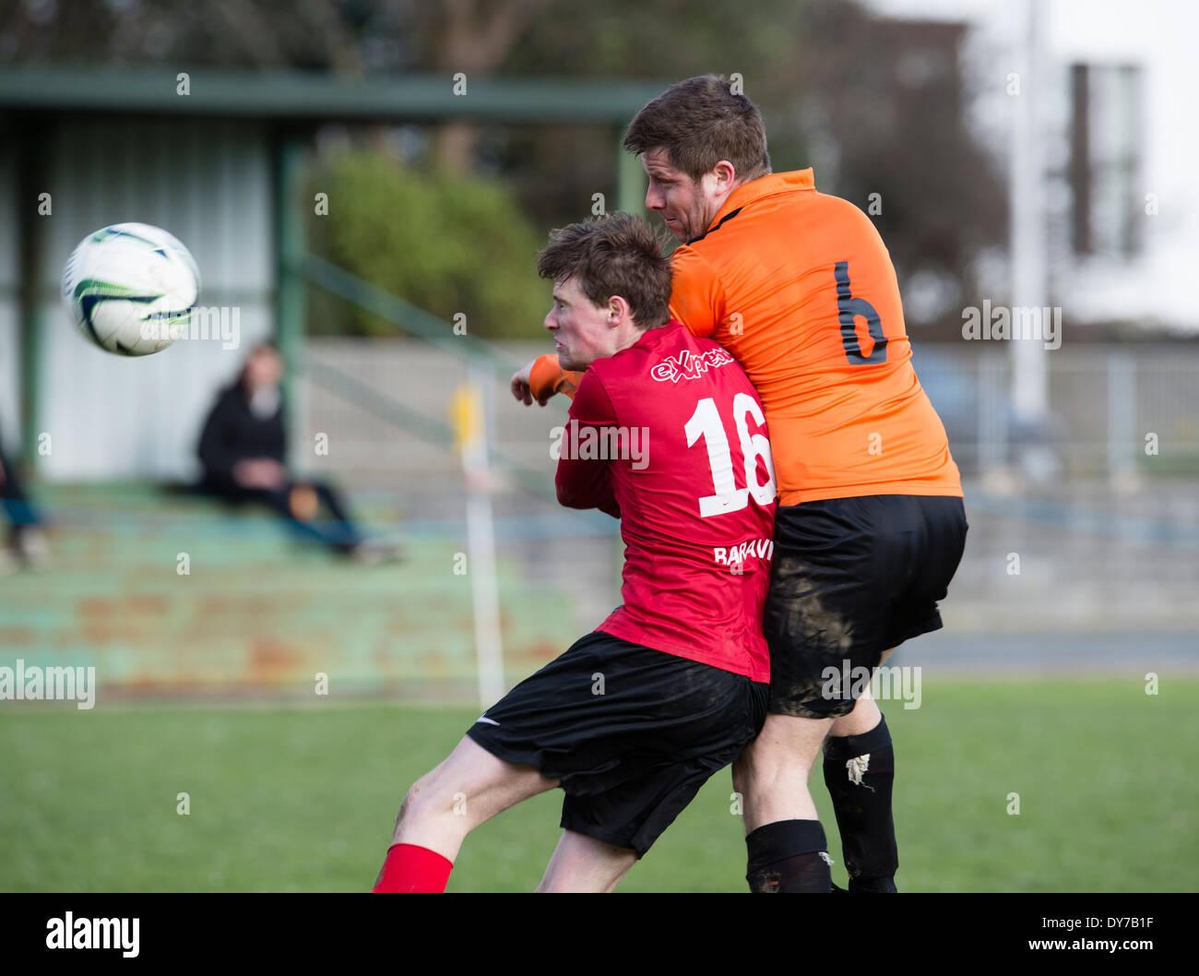ballon_football: (59, 221, 200, 358)
